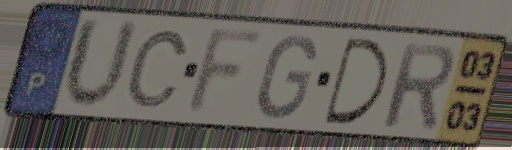C: (123, 27, 192, 110)
D: (321, 34, 392, 128)
F: (180, 26, 271, 120)
G: (254, 33, 320, 122)
R: (380, 39, 458, 131)
U: (59, 13, 143, 114)
